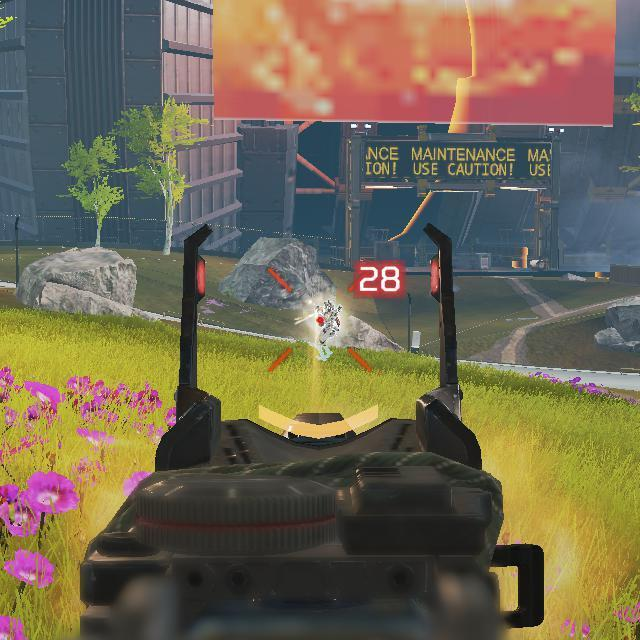avatar: (313, 299, 343, 363)
